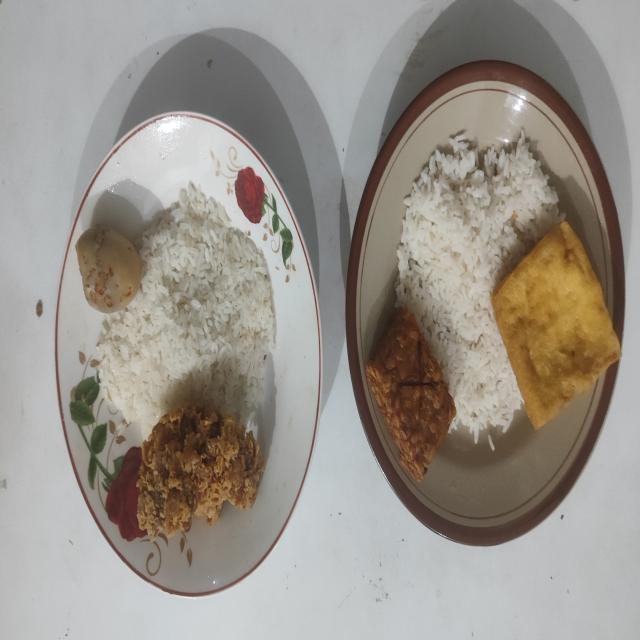nasi_putih: (396, 131, 560, 443), (96, 182, 276, 429)
tahu_goreng: (492, 222, 621, 429)
tempe_goreng: (366, 308, 456, 480)
